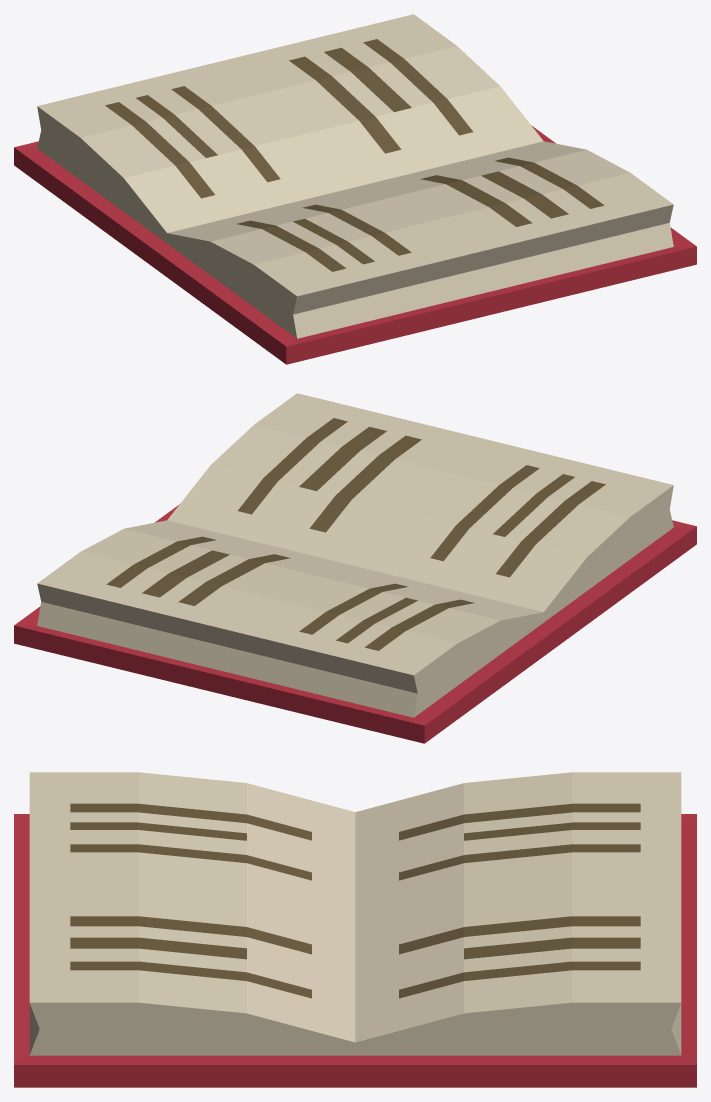
Rendered from Book_Open.glb.
3 views of the same model, one above another, from view 1: azimuth 30°, elevation 25°; view 2: azimuth 150°, elevation 25°; view 3: azimuth 270°, elevation 25° (orthographic). The views are drawn at different scales.
Visible parts, largest first — view 1: Book_Open; view 2: Book_Open; view 3: Book_Open.
Part boxes in pixels (x1=…): Book_Open: x1=14, y1=14, x2=696, y2=364; Book_Open: x1=14, y1=393, x2=696, y2=743; Book_Open: x1=14, y1=772, x2=696, y2=1087.
Bounding box in the file's own units: 1.19 × 0.1658 × 1.37.
